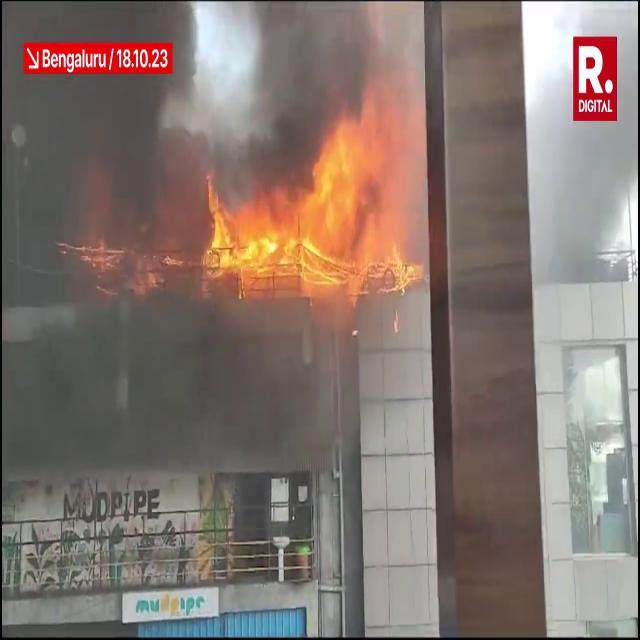Fire: (202, 94, 424, 299)
Smoke: (12, 2, 418, 224)
